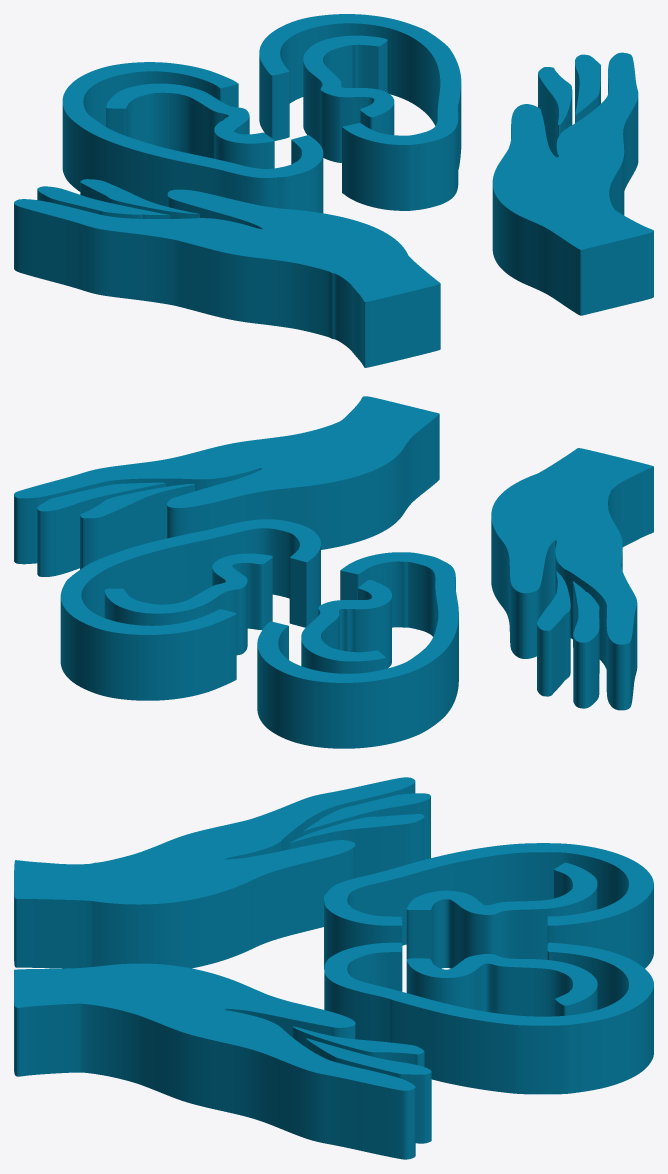
3 views of the same model, one above another, from view 1: azimuth 30°, elevation 25°; view 2: azimuth 150°, elevation 25°; view 3: azimuth 270°, elevation 25° (orthographic). The views are drawn at different scales.
Parts seen in each view (by area): view 1: imagetostl_mesh; view 2: imagetostl_mesh; view 3: imagetostl_mesh.
Boxes of the visible parts, x1,y1,x2,y2 form: imagetostl_mesh: (14, 14, 653, 367); imagetostl_mesh: (14, 396, 653, 748); imagetostl_mesh: (14, 777, 653, 1159).
Bounding box in the file's own units: 97.75 × 10 × 84.35.
